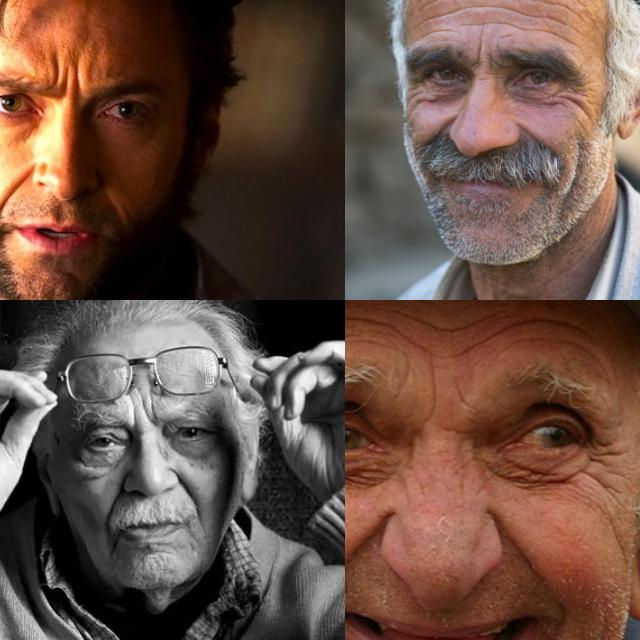chin: (143, 544, 167, 558)
crows_feet: (588, 432, 626, 482), (557, 76, 595, 112), (398, 77, 432, 107)
forehead: (408, 311, 477, 359), (495, 301, 565, 339), (345, 305, 391, 337), (538, 0, 580, 28), (470, 11, 514, 37), (542, 27, 582, 53), (422, 10, 452, 40), (477, 0, 530, 9), (419, 0, 456, 12)
frown_line: (416, 366, 448, 428), (52, 56, 84, 102), (124, 399, 160, 427), (466, 31, 489, 70)
gummy_smile: (491, 514, 539, 574), (345, 522, 385, 570), (0, 167, 30, 212), (519, 122, 551, 154), (172, 472, 198, 506), (104, 480, 124, 520), (428, 113, 454, 143)
masseter: (564, 137, 586, 199)
sad_smile: (106, 533, 122, 559)
